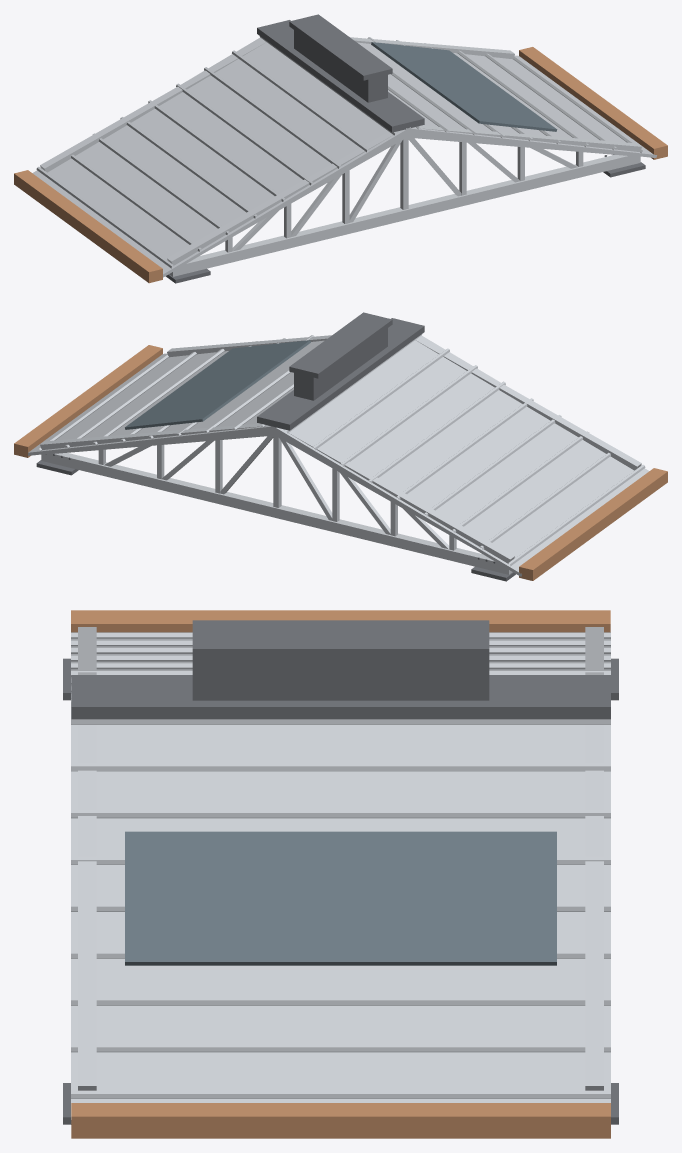
File: steampunk-airship-dock-and-workshop-shed-roof-bay-7d3faceb__36062.glb
The picture shows the model from 3 angles, top to bottom: view 1: azimuth 30°, elevation 25°; view 2: azimuth 150°, elevation 25°; view 3: azimuth 270°, elevation 25°; orthographic projection. The views are drawn at different scales.
Parts seen in each view (by area): view 1: shed-roof-bay; view 2: shed-roof-bay; view 3: shed-roof-bay.
Boxes of the visible parts, <box> form: shed-roof-bay: <box>14,14,667,283</box>; shed-roof-bay: <box>14,312,667,581</box>; shed-roof-bay: <box>63,610,618,1138</box>.
Size of the model in its own units: 8.88 by 2.13 by 4.12.
